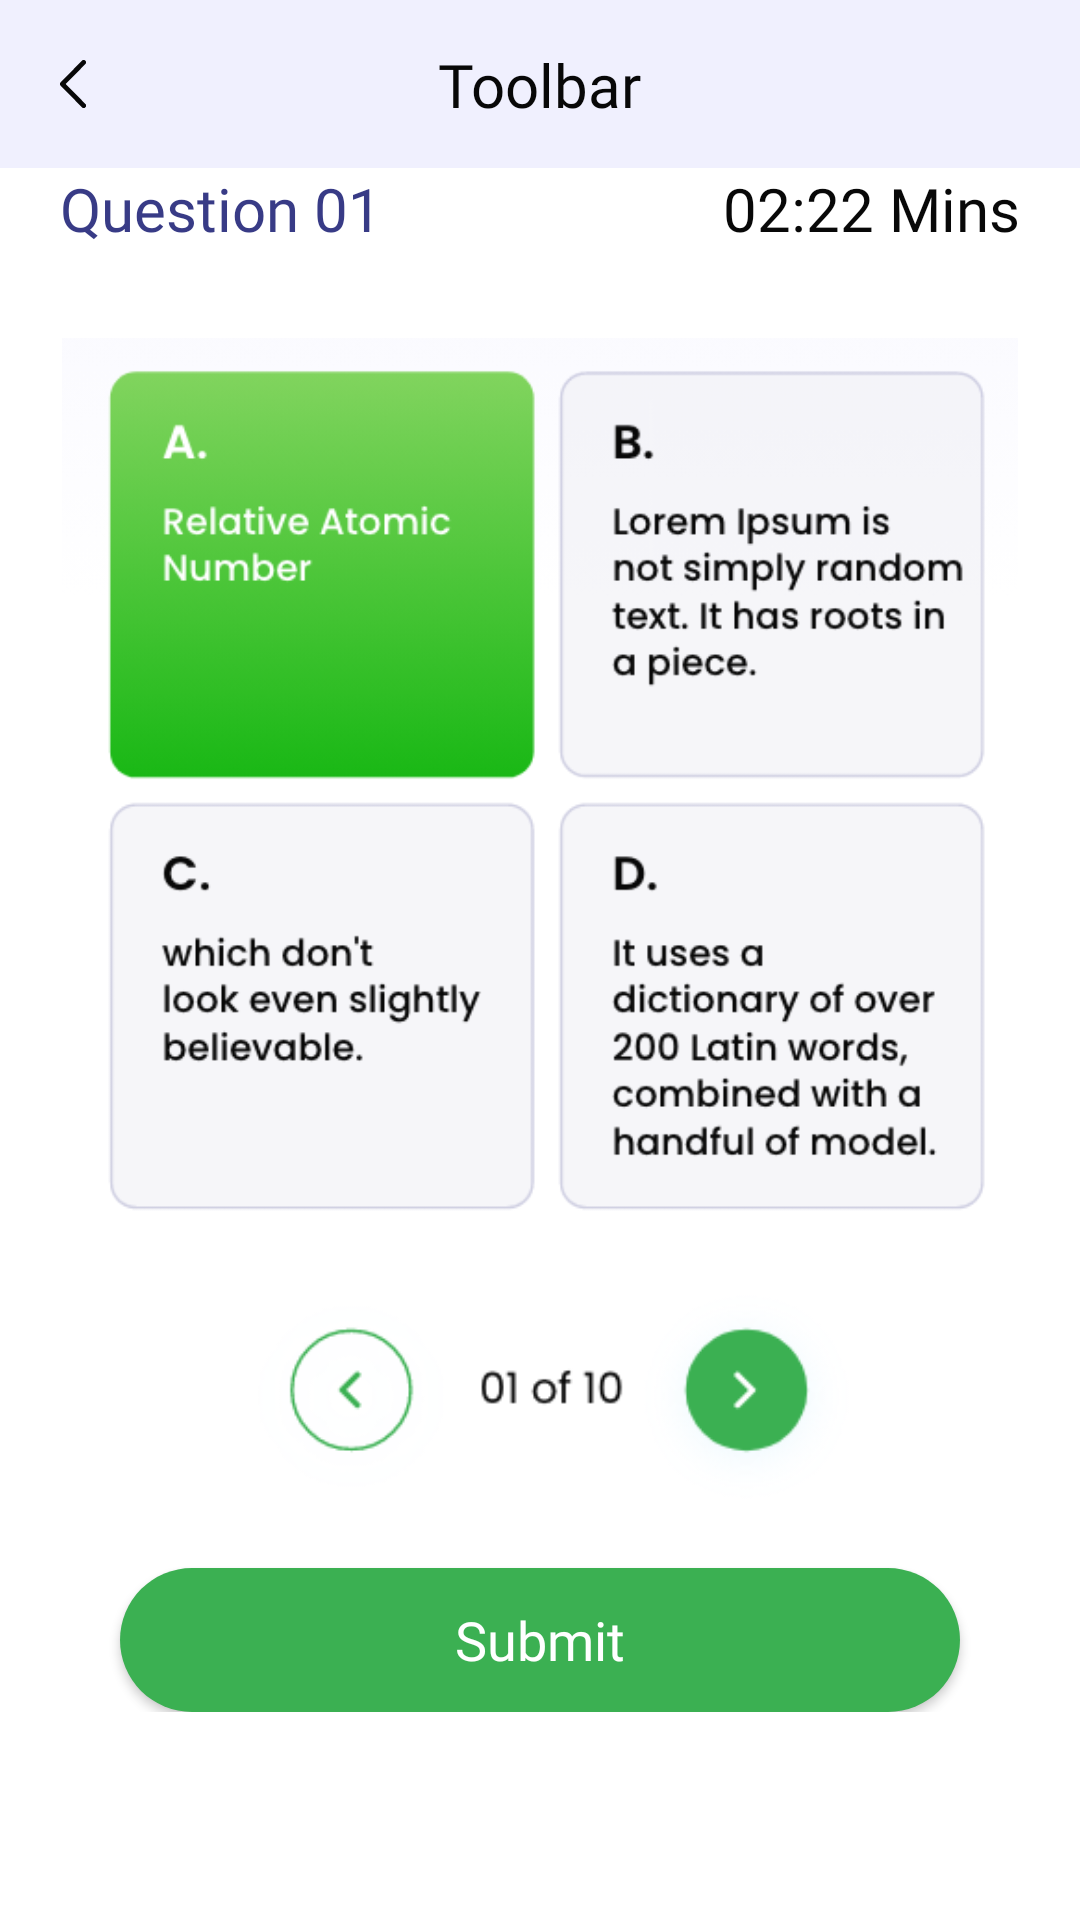

Screen size 1080 × 1920. Icon name, then its box in pixels as (x1, y1, x2, y2):
back: (60, 60, 86, 108)
